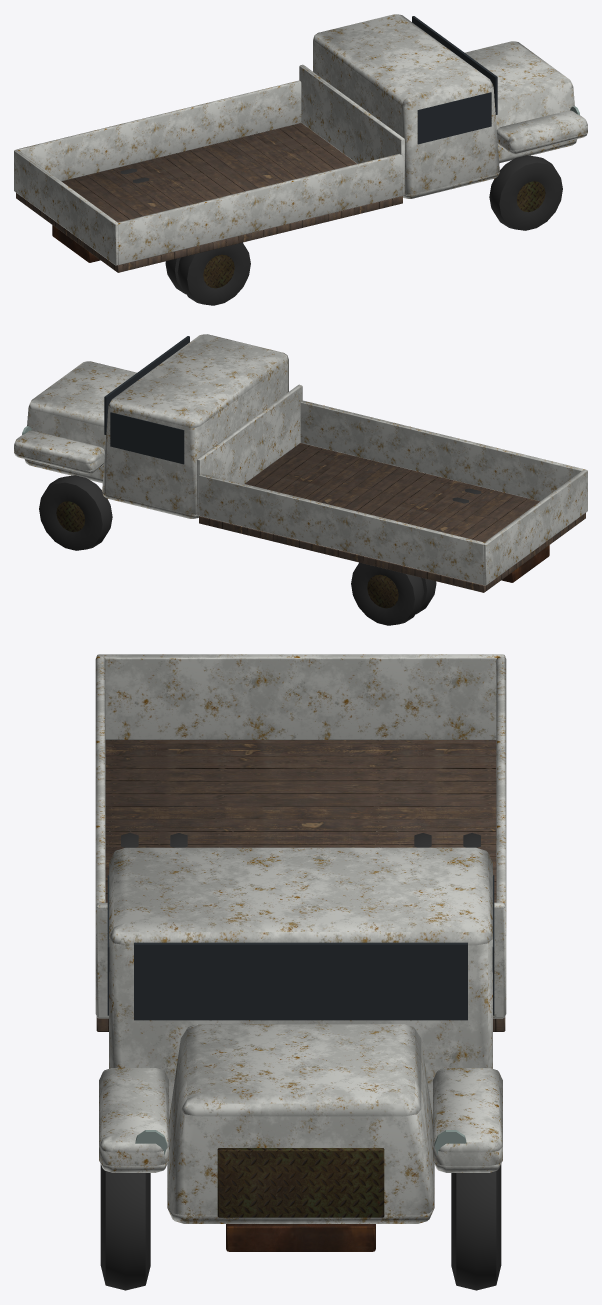
The model's file is veh_truck.gltf.
3 views of the same model, one above another, from view 1: azimuth 30°, elevation 25°; view 2: azimuth 150°, elevation 25°; view 3: azimuth 270°, elevation 25° (orthographic). The views are drawn at different scales.
Visible parts, largest first — view 1: box.004, box.009, box.010, box.011, box.001, box.013, box.012, torus, torus.002, box.006, box.002, box.005 (+3 smaller); view 2: box.004, box.009, box.011, box.010, box.001, box.013, box.012, torus.001, torus.004, box.007, box.003, box.005 (+3 smaller); view 3: box.004, box.009, box.001, box.012, box.005, box.008, box.002, box.003, torus, torus.001, box, box.010 (+2 smaller).
Part boxes in pixels (x1=…): box.004: x1=313, y1=14, x2=499, y2=198; box.009: x1=16, y1=123, x2=402, y2=272; box.010: x1=117, y1=153, x2=402, y2=265; box.011: x1=17, y1=80, x2=301, y2=181; box.001: x1=465, y1=41, x2=577, y2=163; box.013: x1=299, y1=64, x2=404, y2=195; box.012: x1=14, y1=149, x2=118, y2=265; torus: x1=489, y1=155, x2=562, y2=230; torus.002: x1=177, y1=242, x2=250, y2=305; box.006: x1=417, y1=92, x2=491, y2=144; box.002: x1=497, y1=110, x2=587, y2=153; box.005: x1=412, y1=16, x2=497, y2=114; box.004: x1=102, y1=334, x2=288, y2=518; box.009: x1=199, y1=443, x2=585, y2=592; box.011: x1=199, y1=473, x2=484, y2=585; box.010: x1=300, y1=400, x2=584, y2=501; box.001: x1=24, y1=361, x2=136, y2=483; box.013: x1=197, y1=384, x2=302, y2=515; box.012: x1=483, y1=469, x2=587, y2=585; torus.001: x1=39, y1=475, x2=112, y2=550; torus.004: x1=351, y1=562, x2=424, y2=625; box.007: x1=110, y1=412, x2=184, y2=464; box.003: x1=14, y1=430, x2=104, y2=473; box.005: x1=104, y1=336, x2=189, y2=434; box.004: x1=109, y1=847, x2=492, y2=1118; box.009: x1=96, y1=740, x2=505, y2=1031; box.001: x1=167, y1=1024, x2=434, y2=1223; box.012: x1=96, y1=654, x2=505, y2=739; box.005: x1=134, y1=942, x2=467, y2=1020; box.008: x1=217, y1=1148, x2=384, y2=1217; box.002: x1=99, y1=1068, x2=168, y2=1172; box.003: x1=433, y1=1068, x2=502, y2=1172; torus: x1=100, y1=1164, x2=150, y2=1290; torus.001: x1=451, y1=1164, x2=501, y2=1290; box: x1=226, y1=1224, x2=375, y2=1251; box.010: x1=95, y1=656, x2=105, y2=1015.
Bounding box in the file's own units: 6.72 × 2.11 × 2.46.
7 materials, 4 textured.
